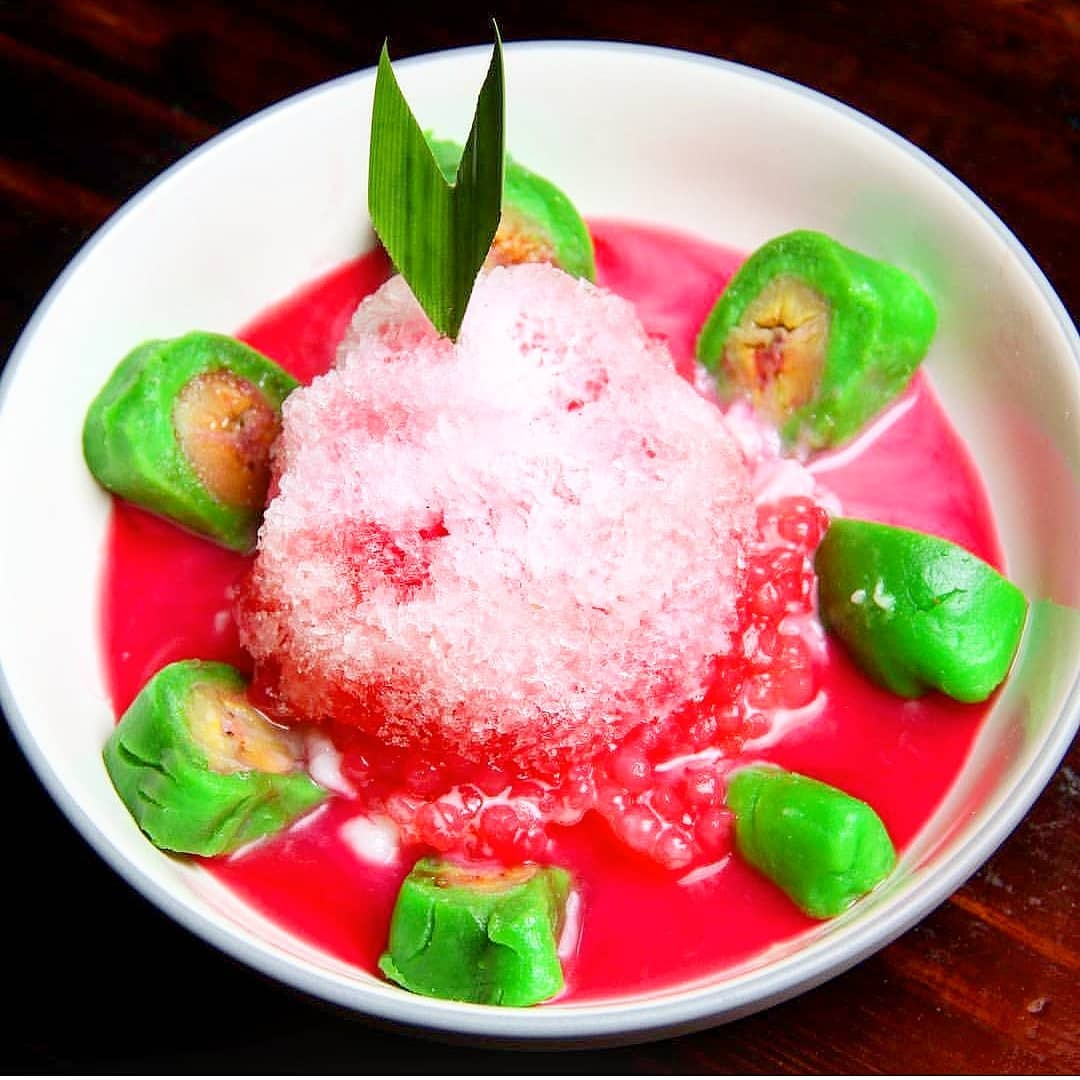pisang_ijo: (662, 229, 901, 450)
